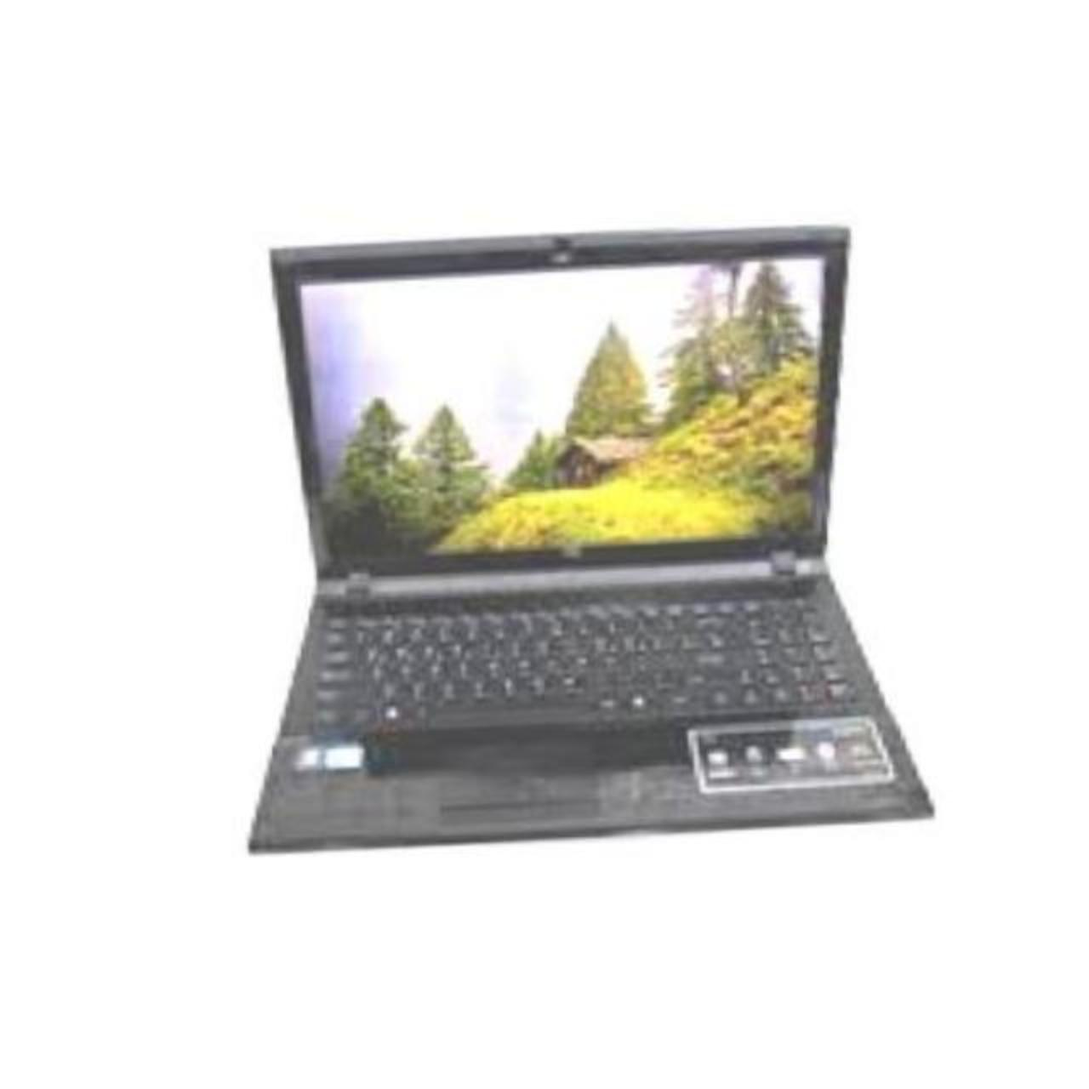laptop: (180, 202, 967, 880)
